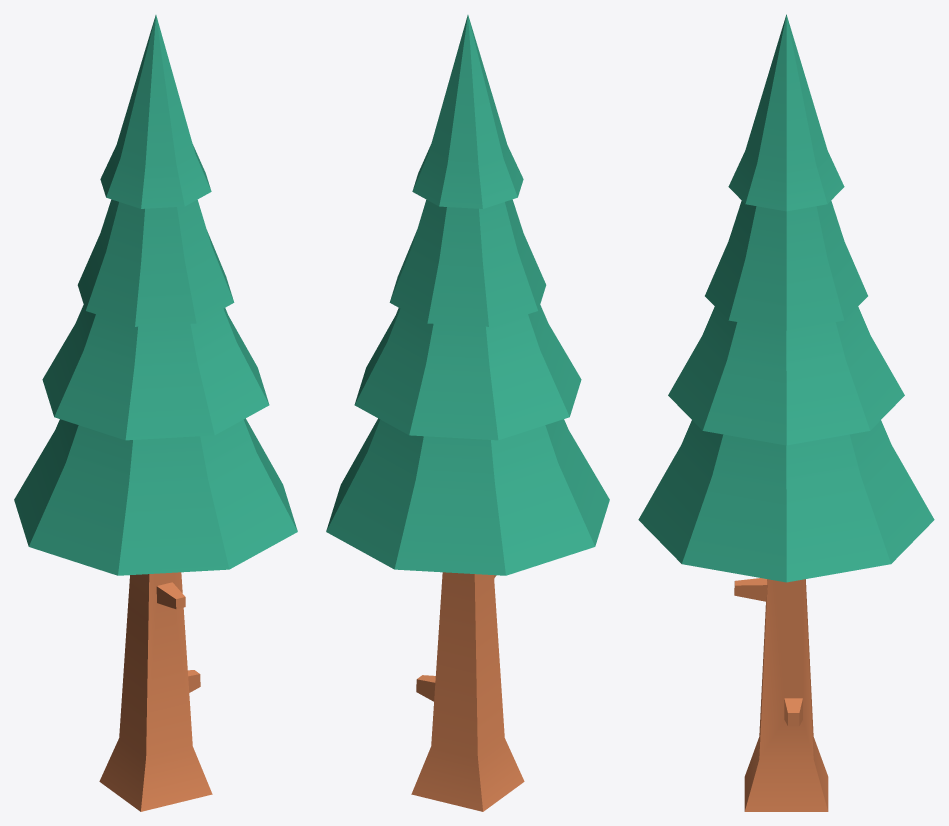
The model's file is treeHigh.dae.
3 renders of one model, left to right at view 1: azimuth 30°, elevation 25°; view 2: azimuth 150°, elevation 25°; view 3: azimuth 270°, elevation 25°, orthographic.
Visible parts, largest first — view 1: treeHigh; view 2: treeHigh; view 3: treeHigh.
Boxes of the visible parts, x1,y1,x2,y2 form: treeHigh: (14, 15, 297, 811); treeHigh: (326, 15, 609, 811); treeHigh: (638, 14, 934, 811).
Bounding box in the file's own units: 1.02 × 2.97 × 1.02.
